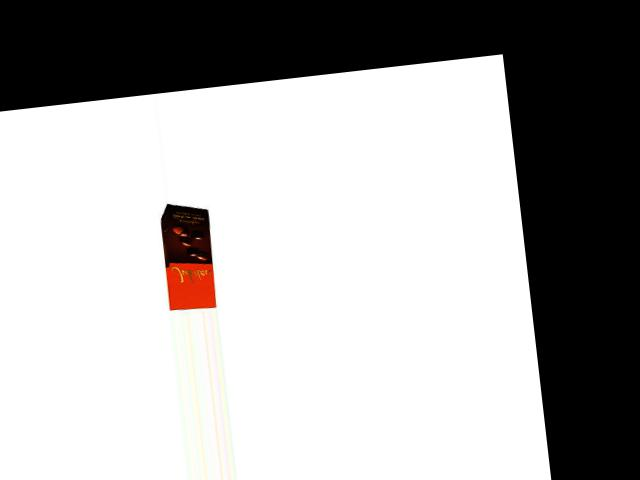chocolate: (155, 200, 225, 312)
